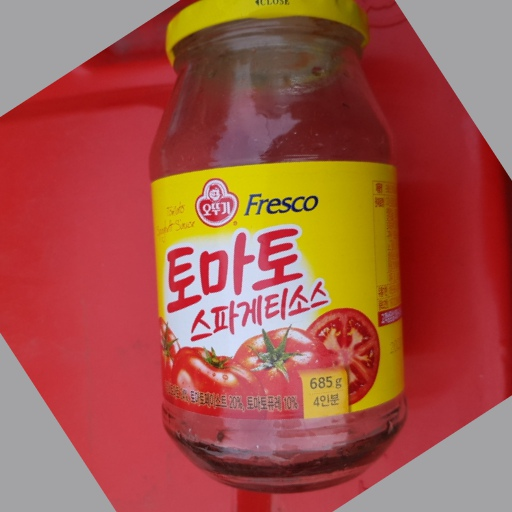Glass_5: (148, 3, 409, 491)
